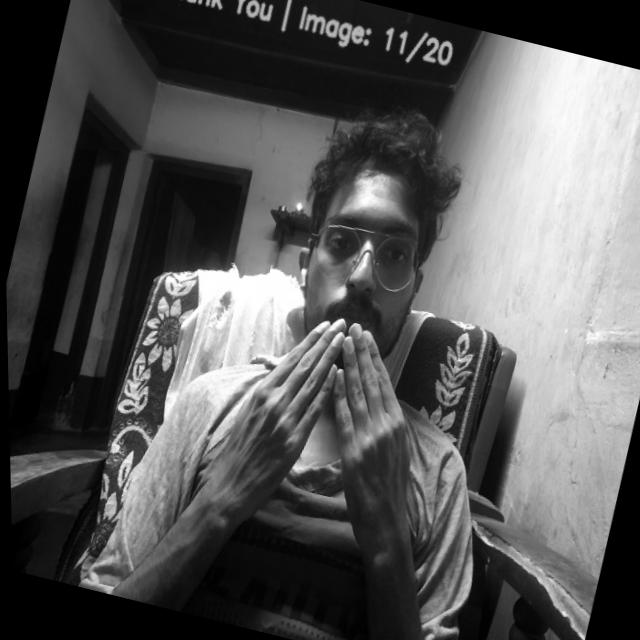Thank You: (205, 296, 442, 534)
